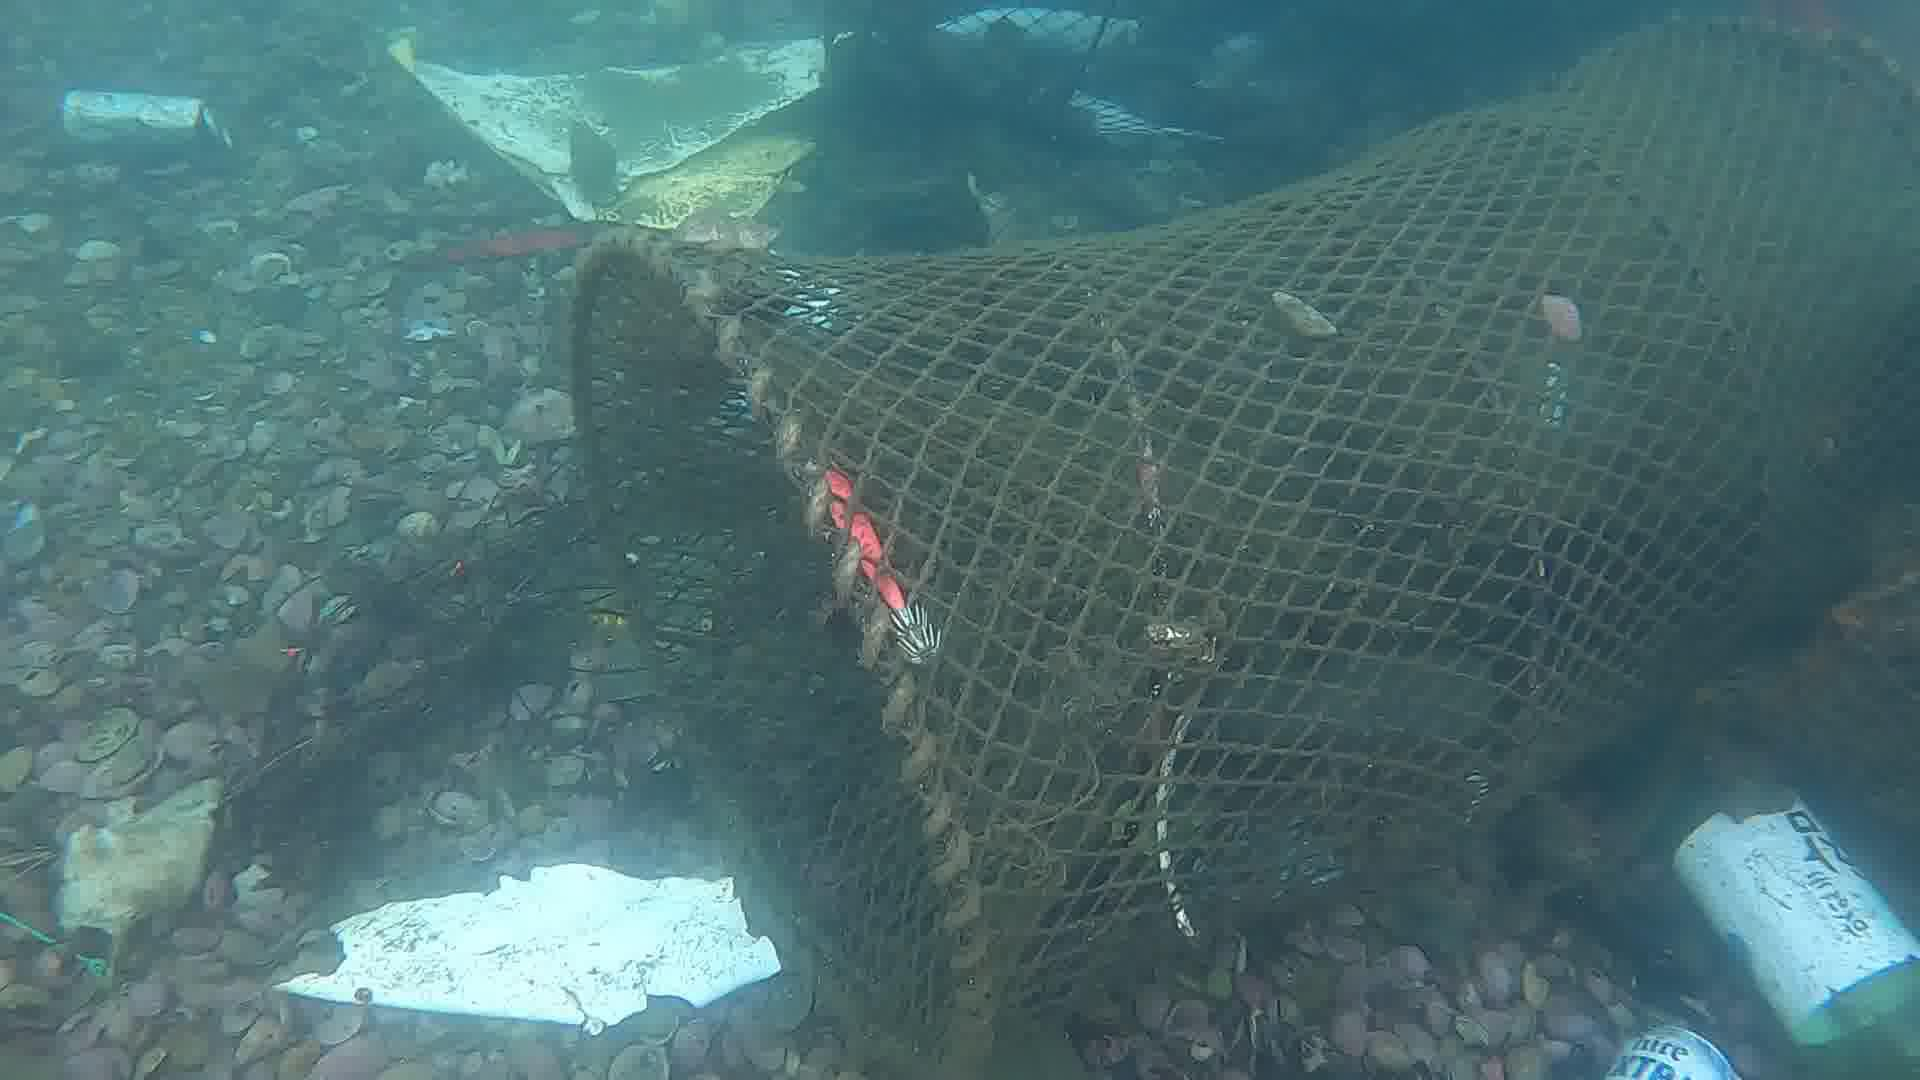spring fish trap: (559, 0, 1920, 1077)
